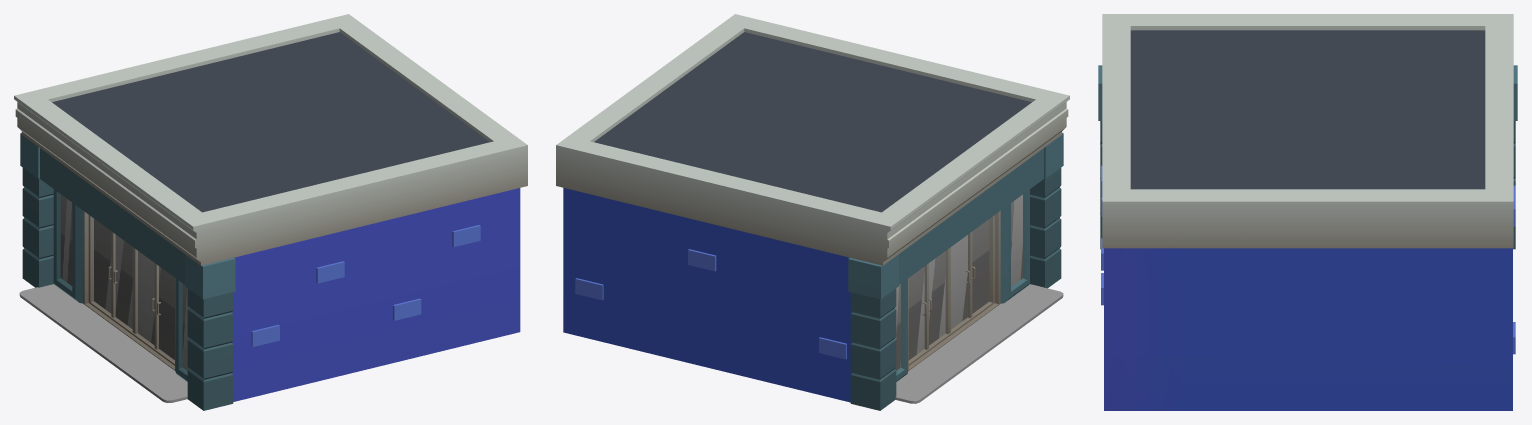
File: Building_21_5_G.glb
3 renders of one model, left to right at view 1: azimuth 30°, elevation 25°; view 2: azimuth 150°, elevation 25°; view 3: azimuth 270°, elevation 25°, orthographic. The views are drawn at different scales.
Visible parts, largest first — view 1: Building_21_5_G; view 2: Building_21_5_G; view 3: Building_21_5_G.
Boxes of the visible parts, box(x1,y1,x2,y2) form: Building_21_5_G: box(14, 14, 527, 410); Building_21_5_G: box(556, 14, 1069, 410); Building_21_5_G: box(1098, 14, 1517, 410).
Size of the model in its own units: 7.79 by 4 by 7.13.
Materials: 3 (3 with a texture image).
